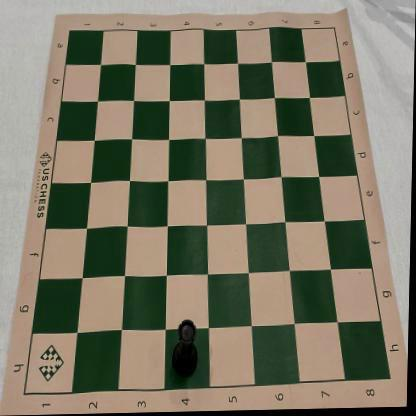black-rook: (172, 320, 202, 378)
